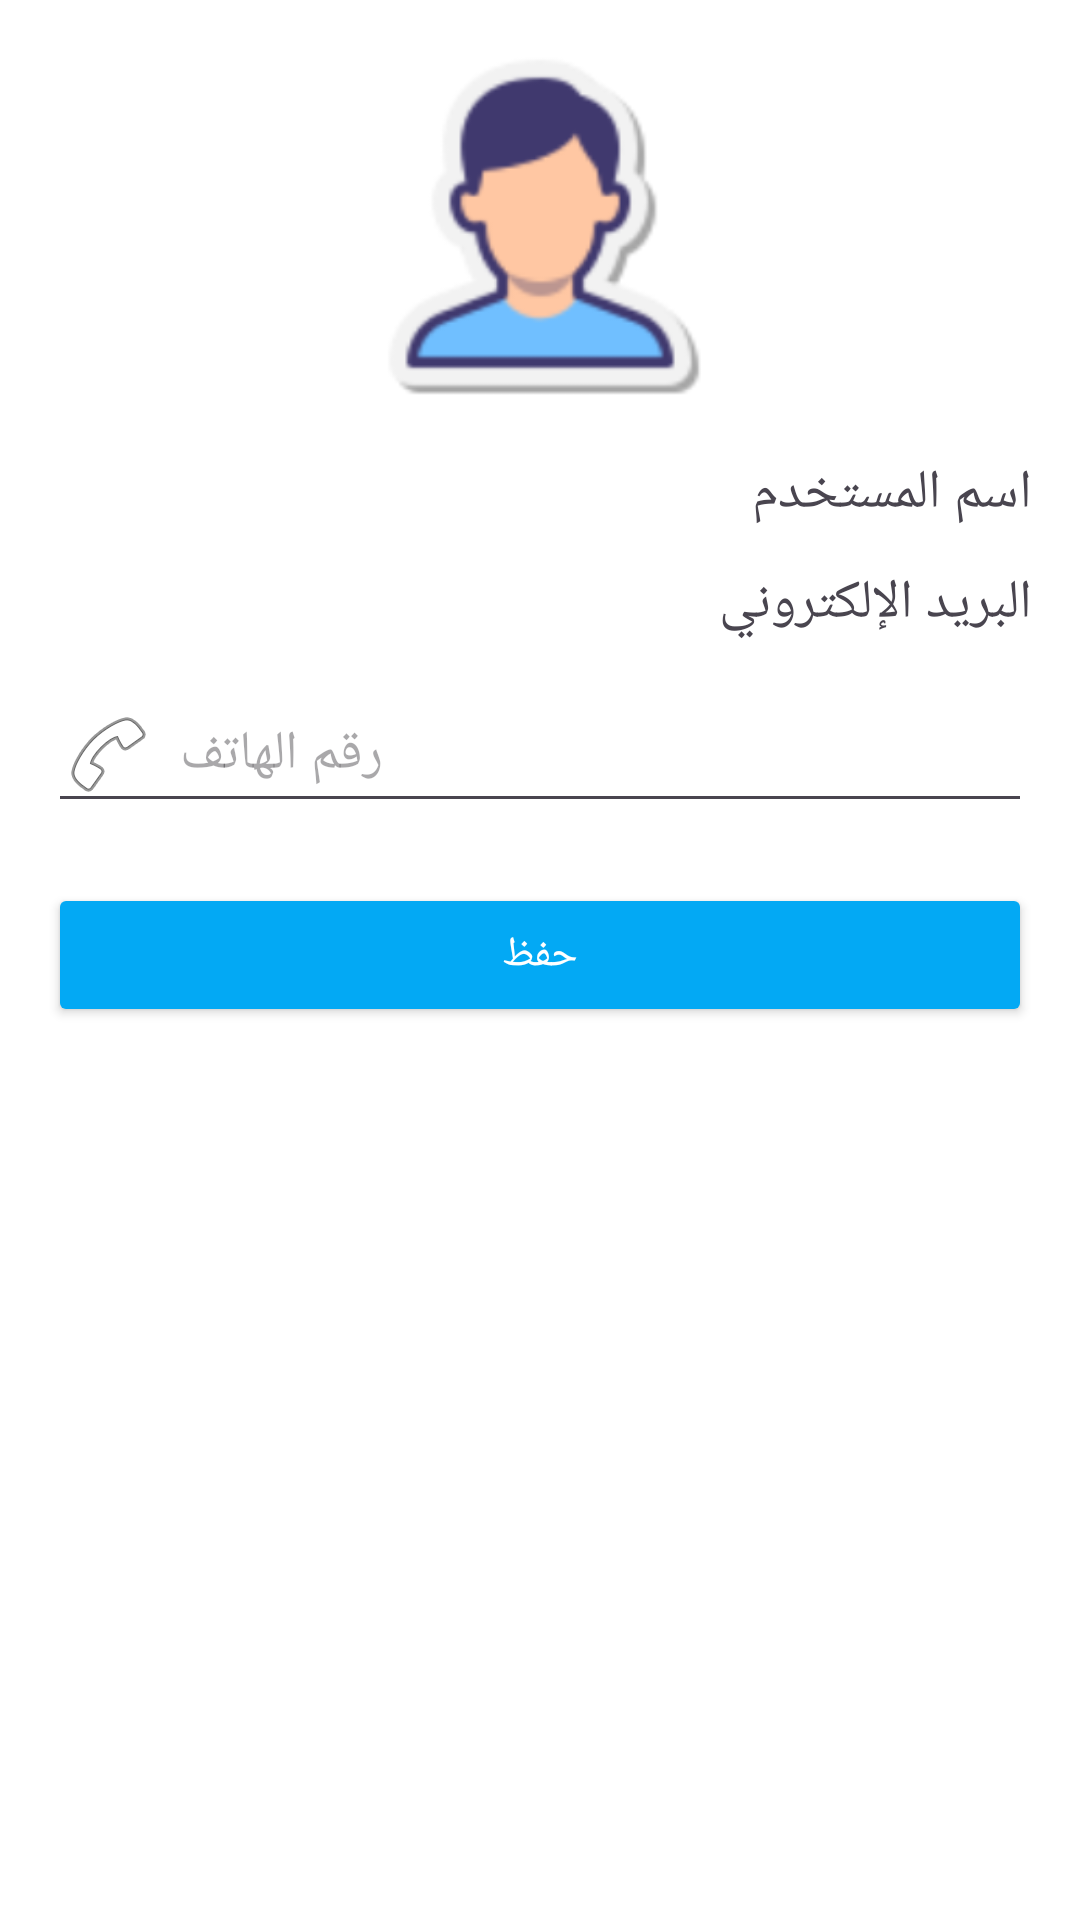

Point at icon controls on the screen. Image size 1080 × 1920, points as [x,y].
login photo: [550,235]
